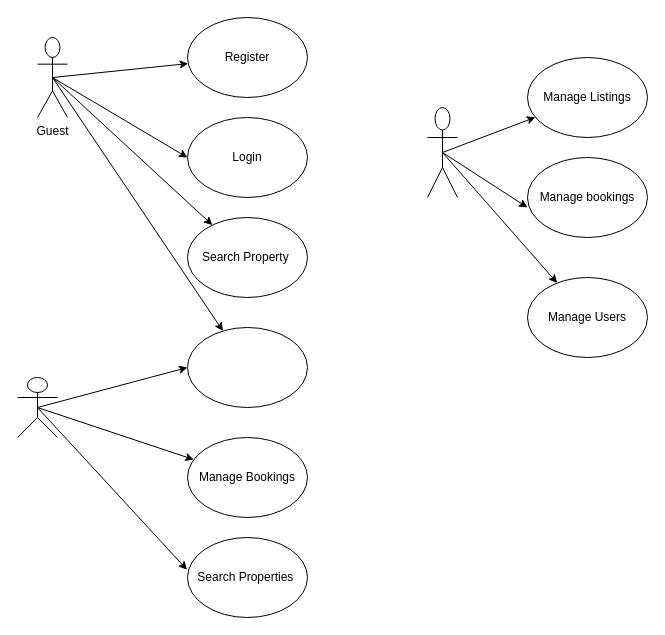
Image size: 665x635. Some labels were removed from this diagram. Here are the shapes that lost their labels. From the top down, the box of each, then its label:
(426, 106, 458, 198): Admin
(186, 326, 308, 408): Payments
(16, 376, 58, 438): Host
